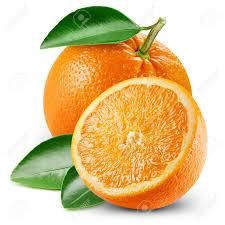orange: (67, 77, 219, 213), (42, 20, 213, 100)
